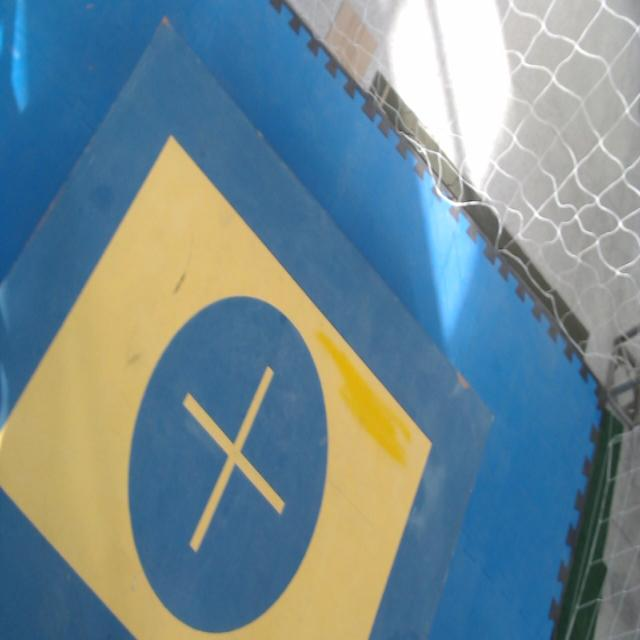base_inicio: (0, 136, 434, 639)
